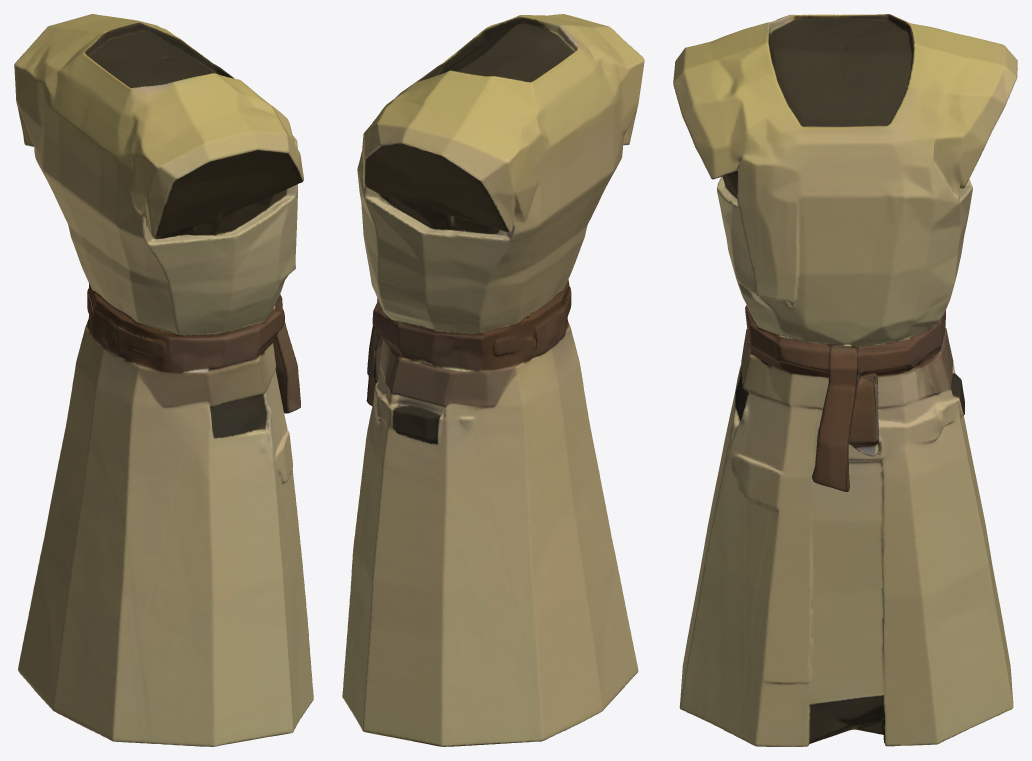
File: gear_robe.glb
The picture shows the model from 3 angles, left to right: view 1: azimuth 30°, elevation 25°; view 2: azimuth 150°, elevation 25°; view 3: azimuth 270°, elevation 25°; orthographic projection.
Visible parts, largest first — view 1: tripo_node_7a86777a-2e87-4131-8973-d6d5c13e3048; view 2: tripo_node_7a86777a-2e87-4131-8973-d6d5c13e3048; view 3: tripo_node_7a86777a-2e87-4131-8973-d6d5c13e3048.
Part boxes in pixels (left/top/right/bottom): tripo_node_7a86777a-2e87-4131-8973-d6d5c13e3048: left=14, top=14, right=313, bottom=746; tripo_node_7a86777a-2e87-4131-8973-d6d5c13e3048: left=342, top=14, right=644, bottom=746; tripo_node_7a86777a-2e87-4131-8973-d6d5c13e3048: left=673, top=14, right=1017, bottom=746.
Bounding box in the file's own units: 0.3815 × 1 × 0.474.
1 material, 1 textured.
